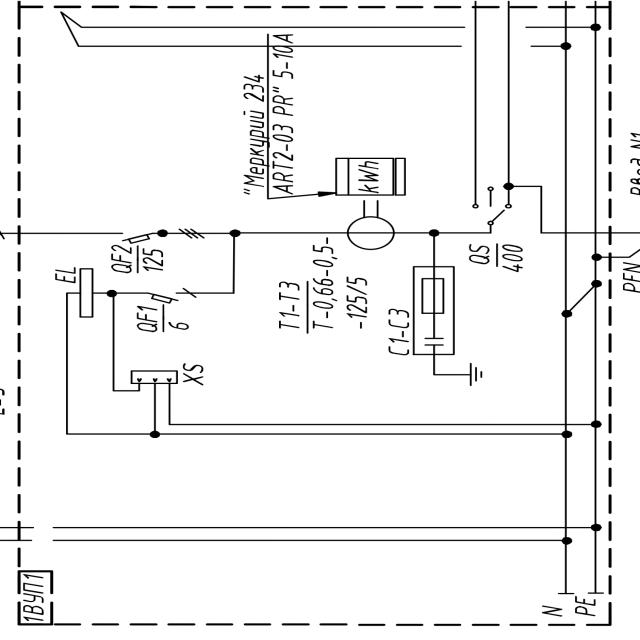-: (240, 32, 306, 200), (310, 235, 374, 342), (21, 570, 48, 624), (140, 242, 173, 276), (501, 240, 526, 276), (165, 315, 198, 337)
K: (76, 266, 95, 320)
QF: (142, 286, 184, 304), (116, 228, 160, 244)
TT: (343, 200, 406, 250)
WH: (330, 155, 410, 197)
XS: (128, 368, 180, 384)
switch: (470, 185, 516, 225)
